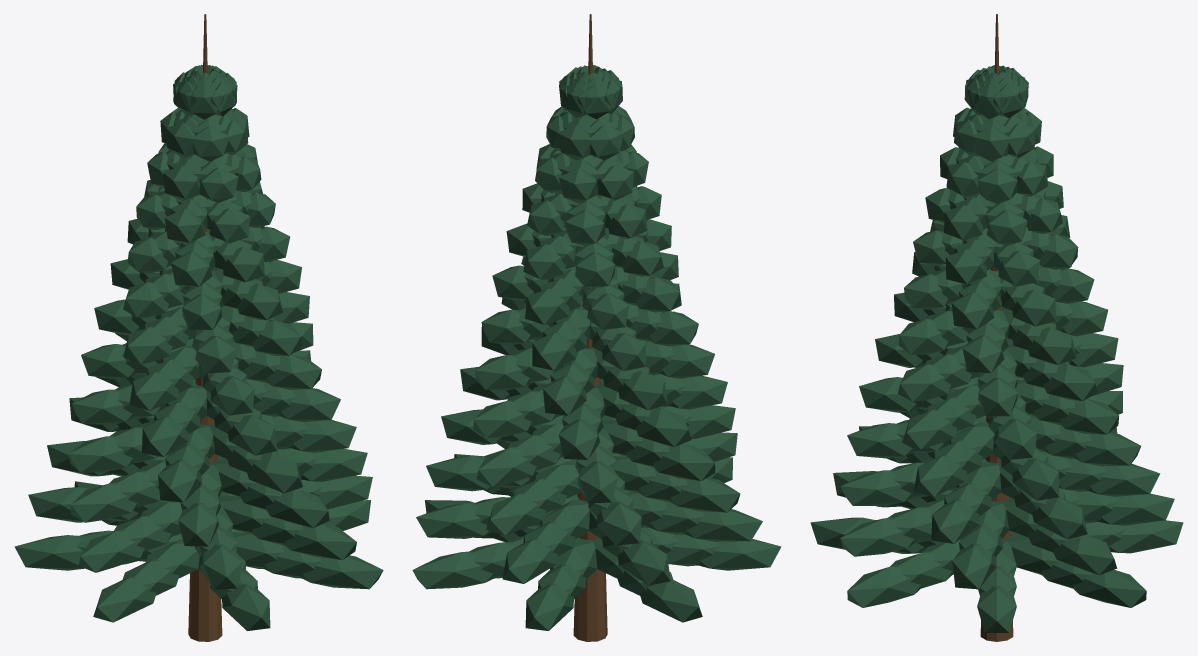
Rendered from conifer-light-merged.glb.
3 views of the same model, side by side, from view 1: azimuth 30°, elevation 25°; view 2: azimuth 150°, elevation 25°; view 3: azimuth 270°, elevation 25° (orthographic).
Parts seen in each view (by area): view 1: world; view 2: world; view 3: world.
Part boxes in pixels (box(x1,y1,x2,y2)): world: box(14, 14, 383, 641); world: box(412, 14, 781, 641); world: box(810, 14, 1183, 641).
Bounding box in the file's own units: 4.25 × 8 × 4.36.
